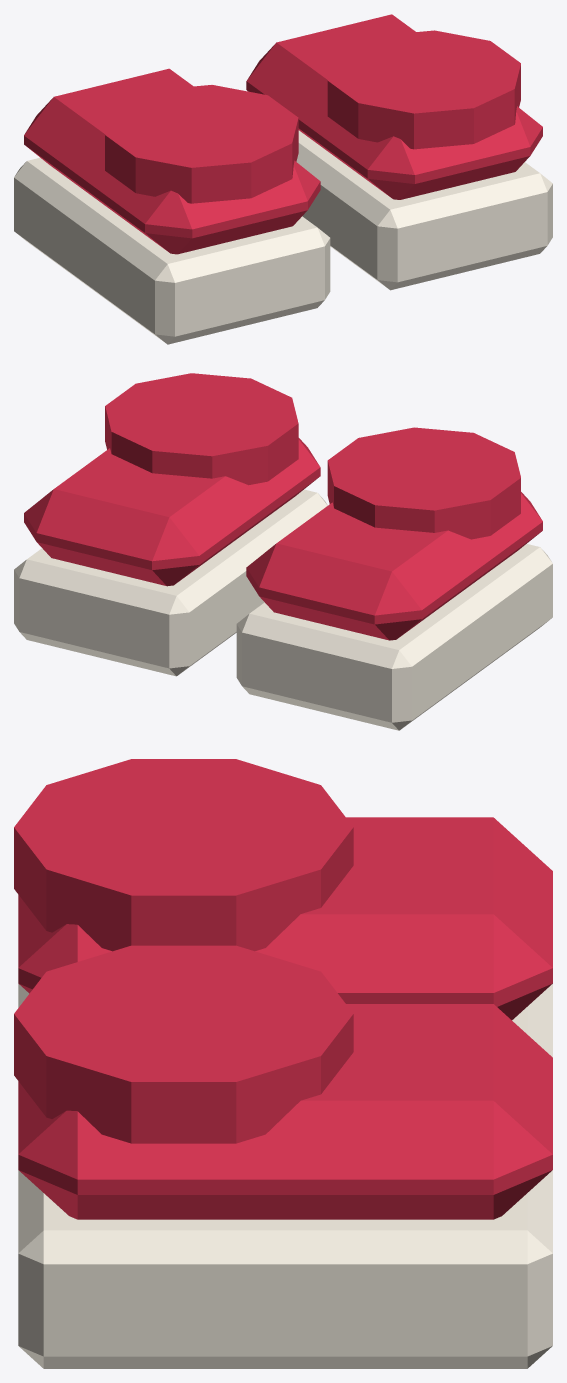
File: shoes_platform.glb
3 views of the same model, one above another, from view 1: azimuth 30°, elevation 25°; view 2: azimuth 150°, elevation 25°; view 3: azimuth 270°, elevation 25° (orthographic). The views are drawn at different scales.
Parts seen in each view (by area): view 1: LegL, LegR; view 2: LegL, LegR; view 3: LegR, LegL.
Boxes of the visible parts, x1,y1,x2,y2 form: LegL: [14, 68, 330, 344]; LegR: [246, 14, 552, 290]; LegL: [236, 427, 552, 730]; LegR: [14, 373, 327, 676]; LegR: [14, 945, 552, 1368]; LegL: [14, 759, 552, 1057].
Bounding box in the file's own units: 0.465 × 0.19 × 0.3175.
